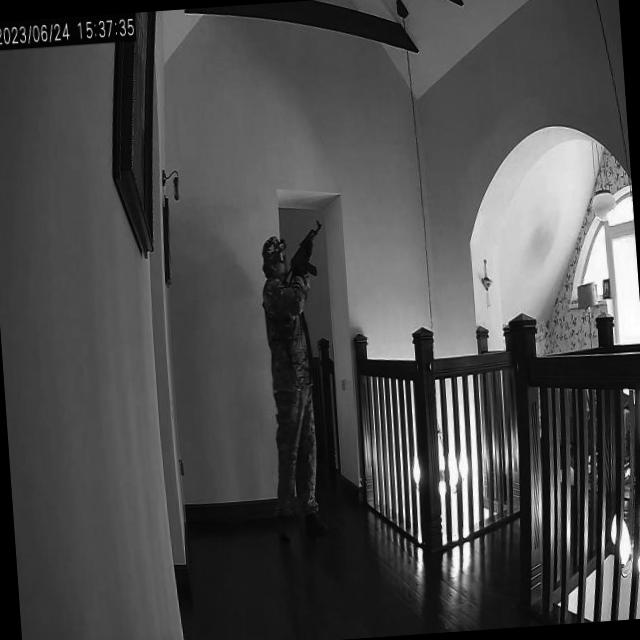gun: (287, 215, 328, 278)
person with a gun: (253, 212, 350, 552)
